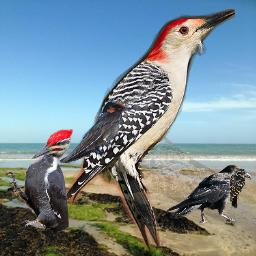Crow: (165, 164, 251, 226)
Swallow: (59, 101, 130, 163)
Woodpecker: (63, 9, 235, 254), (5, 129, 73, 233), (230, 168, 247, 209)
